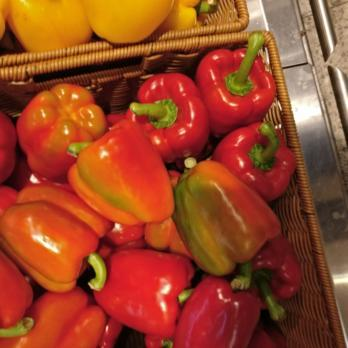Capsicum: (0, 81, 266, 348), (212, 122, 297, 195), (196, 44, 277, 116), (253, 232, 300, 304)
